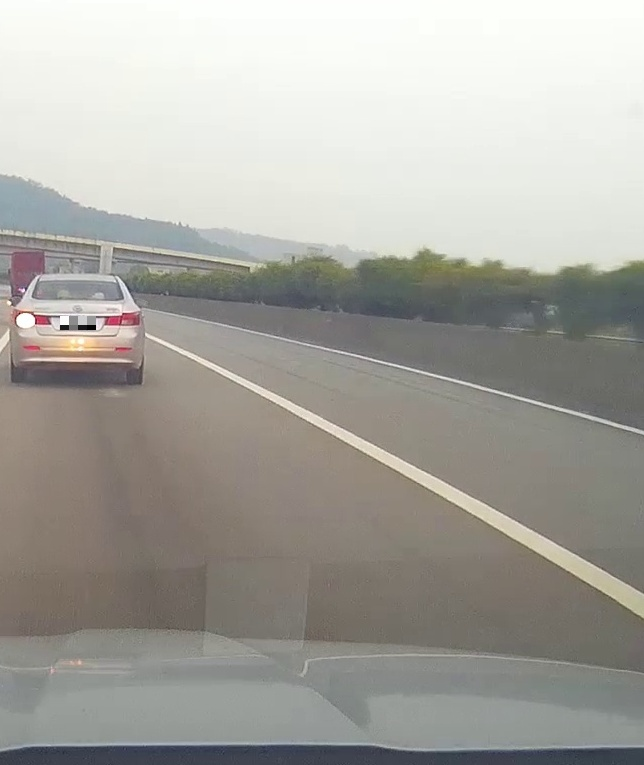L_light: (15, 311, 52, 328)
R_light: (104, 311, 140, 326)
T_light: (72, 278, 89, 283)
day-left: (13, 273, 142, 384)
plate_1: (60, 316, 96, 330)
